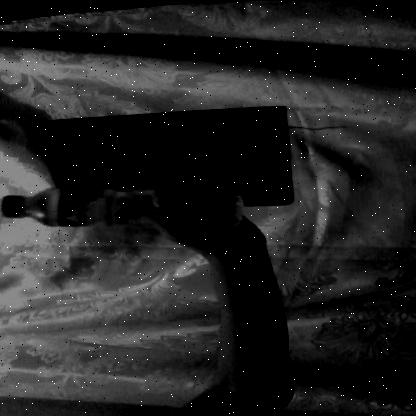Plastic Bottle: (5, 174, 248, 232)
